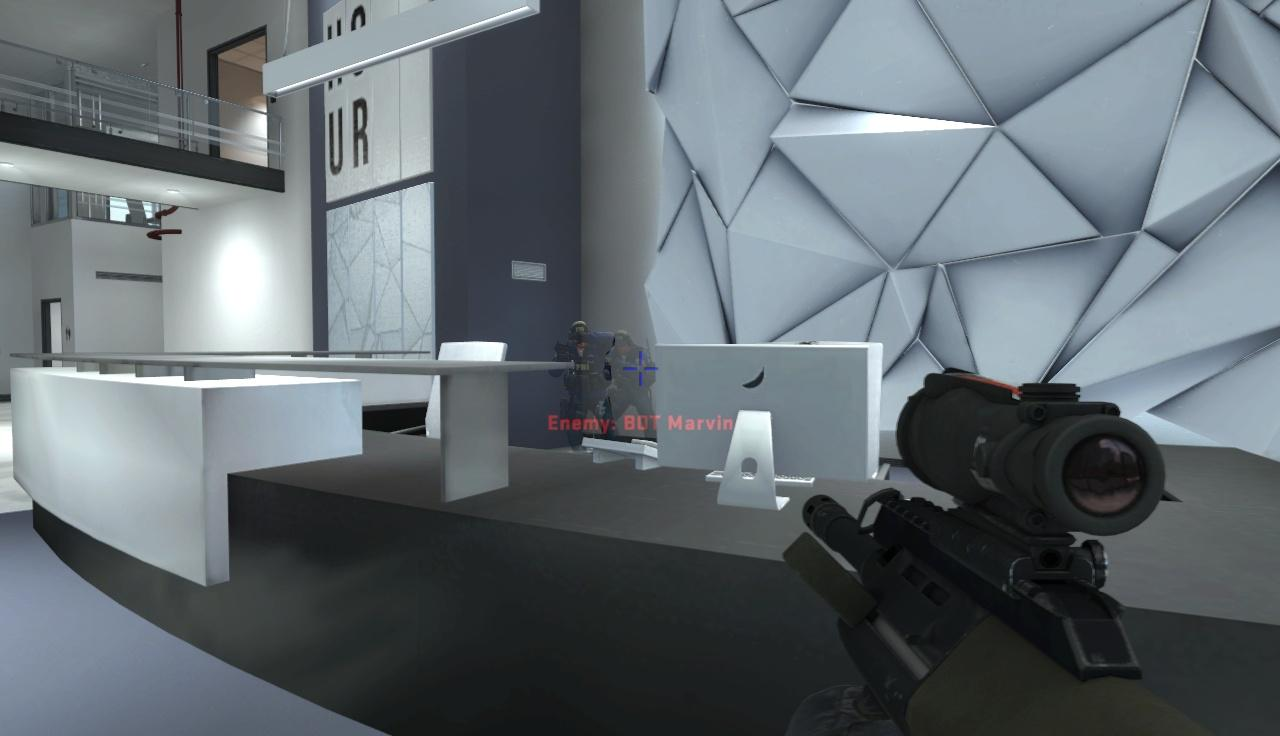ct: (557, 321, 611, 444)
cthead: (569, 321, 593, 348)
rifle: (797, 363, 1280, 736)
